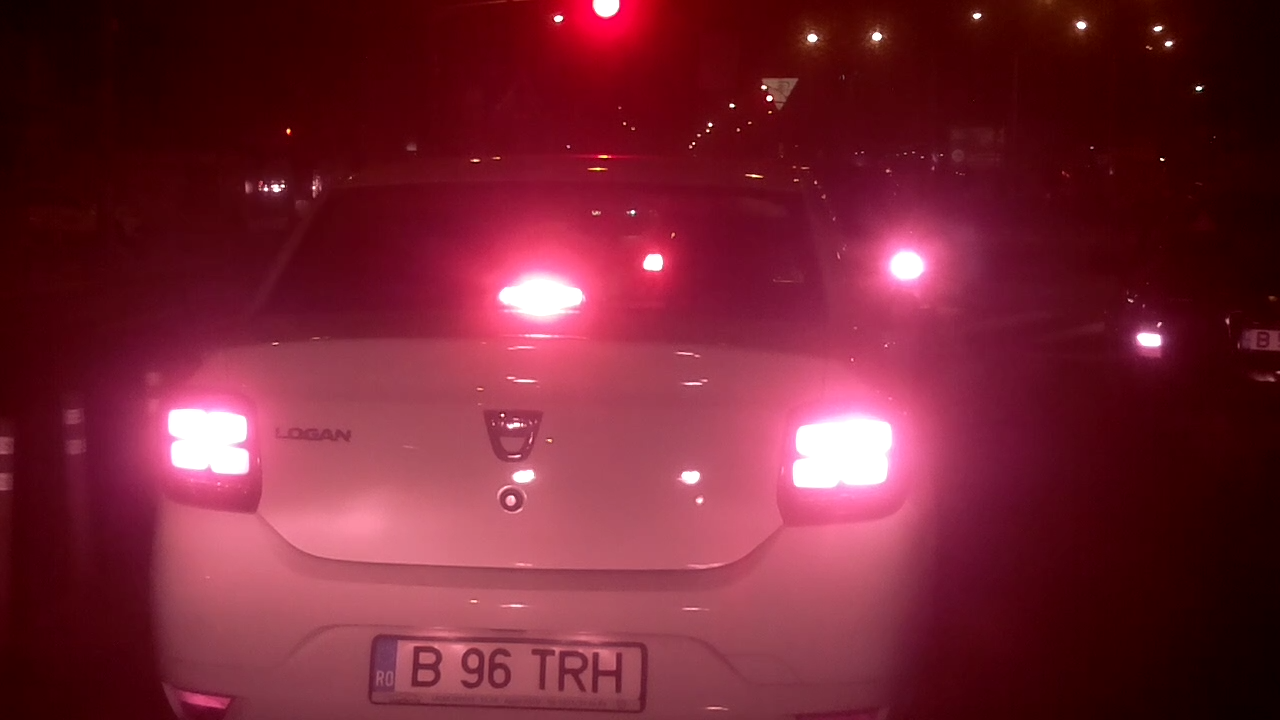license-plate: (363, 629, 653, 717)
